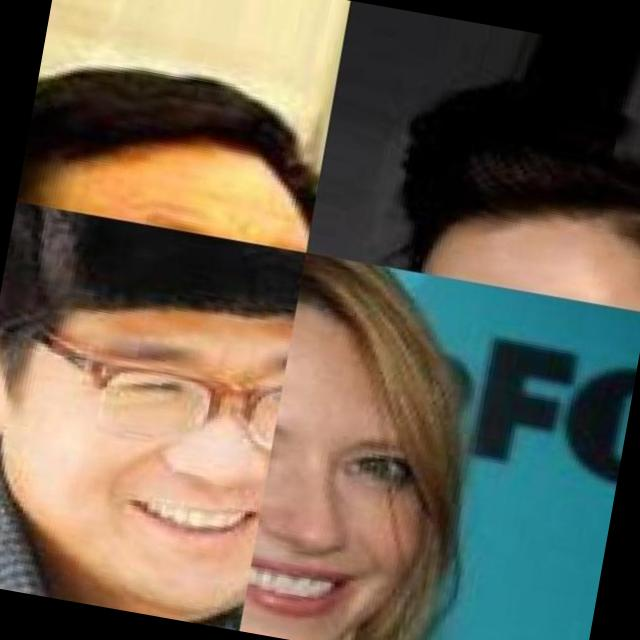bareface: (0, 248, 285, 614)
